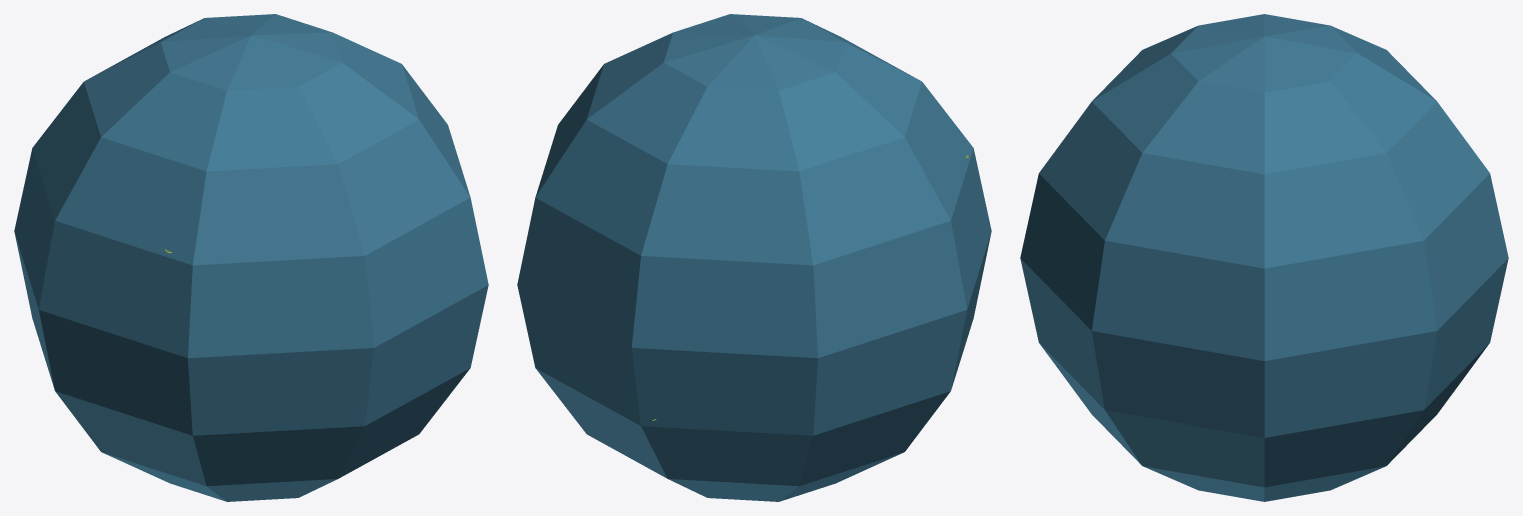
File: PlantOrbGlass.glb
3 renders of one model, left to right at view 1: azimuth 30°, elevation 25°; view 2: azimuth 150°, elevation 25°; view 3: azimuth 270°, elevation 25°, orthographic.
Parts seen in each view (by area): view 1: CryoOrbPlant.012; view 2: CryoOrbPlant.012; view 3: CryoOrbPlant.012.
Part boxes in pixels (x1=…): CryoOrbPlant.012: x1=14, y1=14, x2=488, y2=501; CryoOrbPlant.012: x1=517, y1=14, x2=991, y2=501; CryoOrbPlant.012: x1=1020, y1=14, x2=1508, y2=501.
Size of the model in its own units: 0.4 by 0.4 by 0.4.
2 materials, 2 textured.
